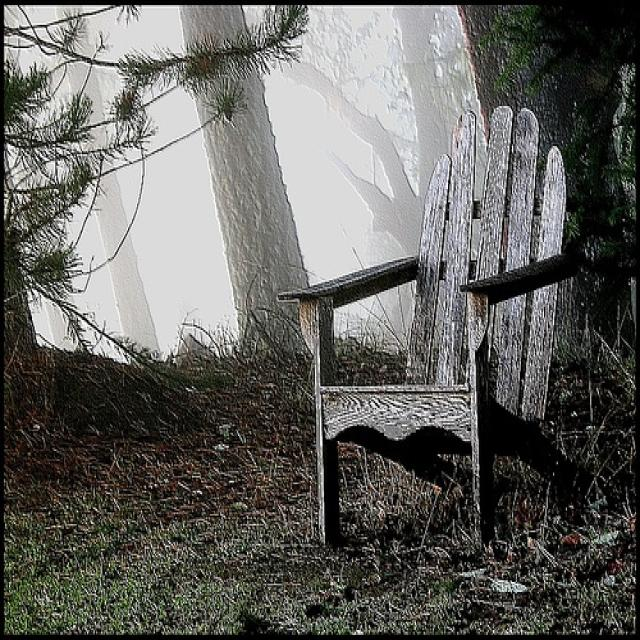chair: (280, 105, 589, 547)
